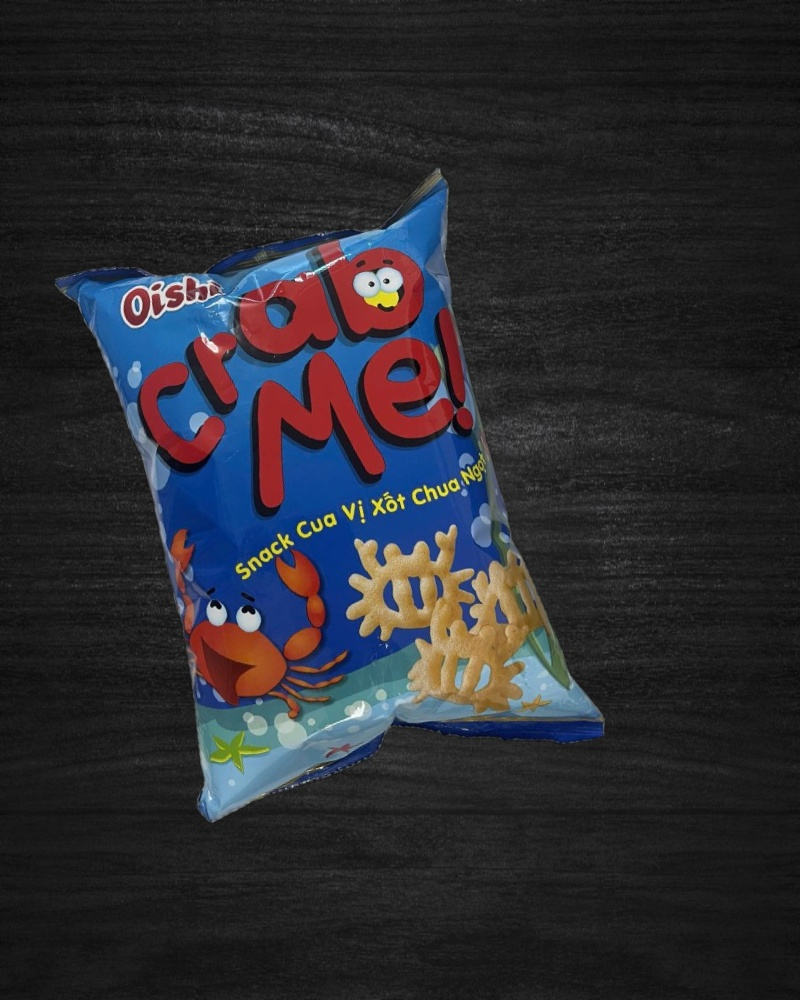Snack chay: (52, 163, 610, 845)
